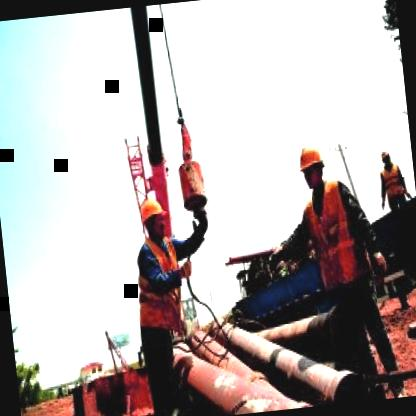helmet: (294, 138, 328, 195), (138, 192, 171, 244), (377, 146, 394, 172)
